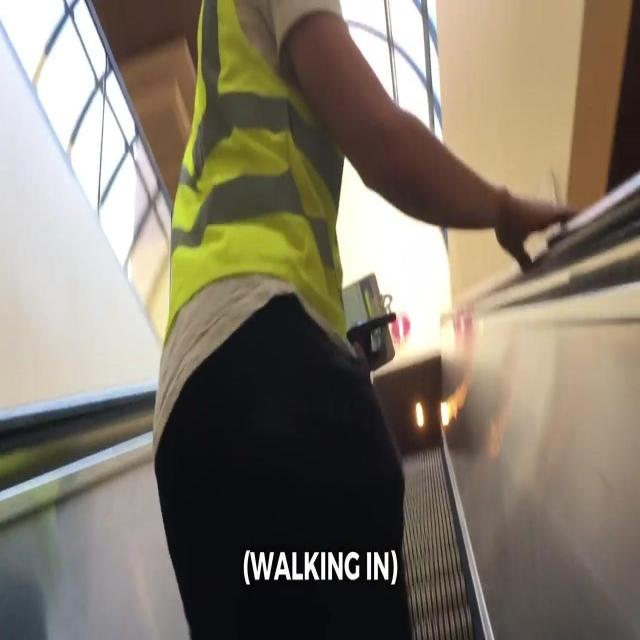Vest: (164, 0, 347, 340)
